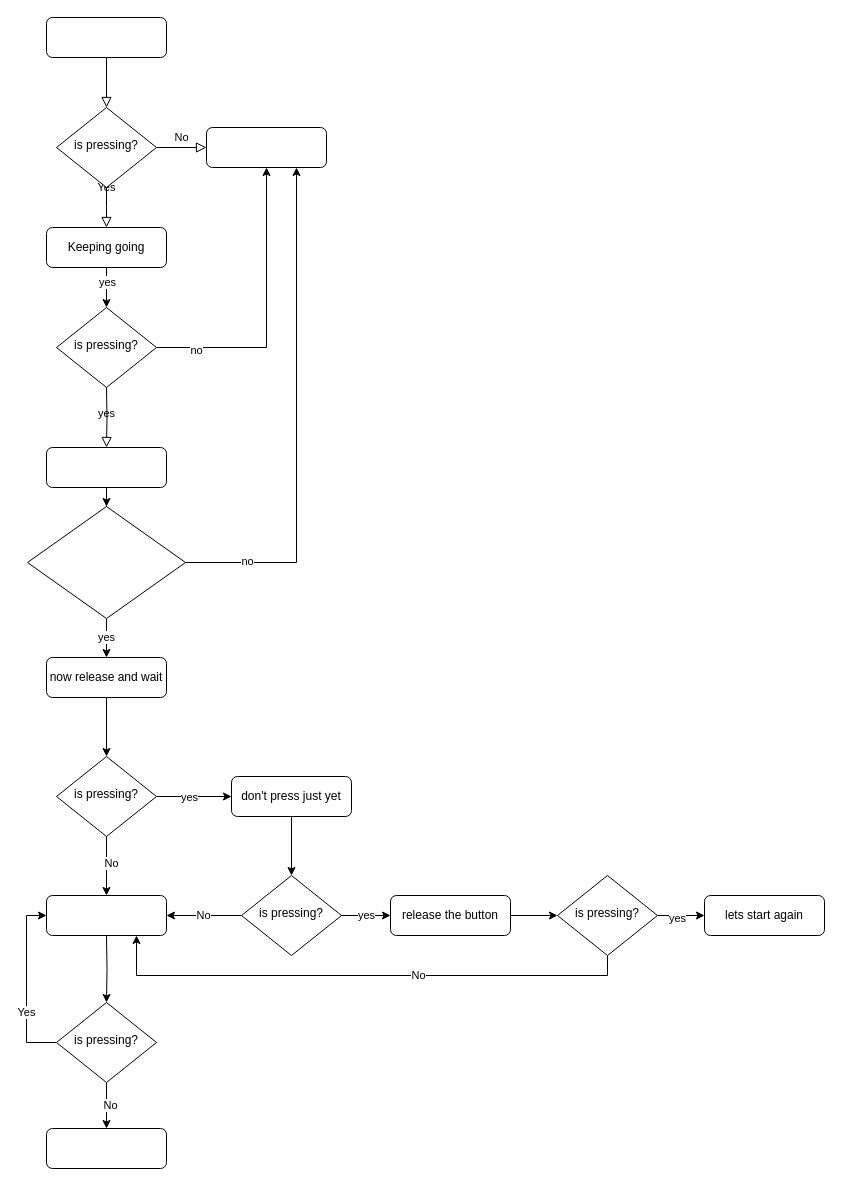
This 842x1186 diagram has some shape labels left out. Each missing label, with the box of its shape:
is pressing? and has the duration been reached?: (26, 506, 186, 618)
Press and hold the button: (46, 16, 166, 58)
press hold and breathe in: (46, 1128, 166, 1168)
that's great: (46, 446, 166, 488)
try pressing a bit longer: (206, 126, 326, 168)
wait a little longer: (46, 894, 166, 936)
